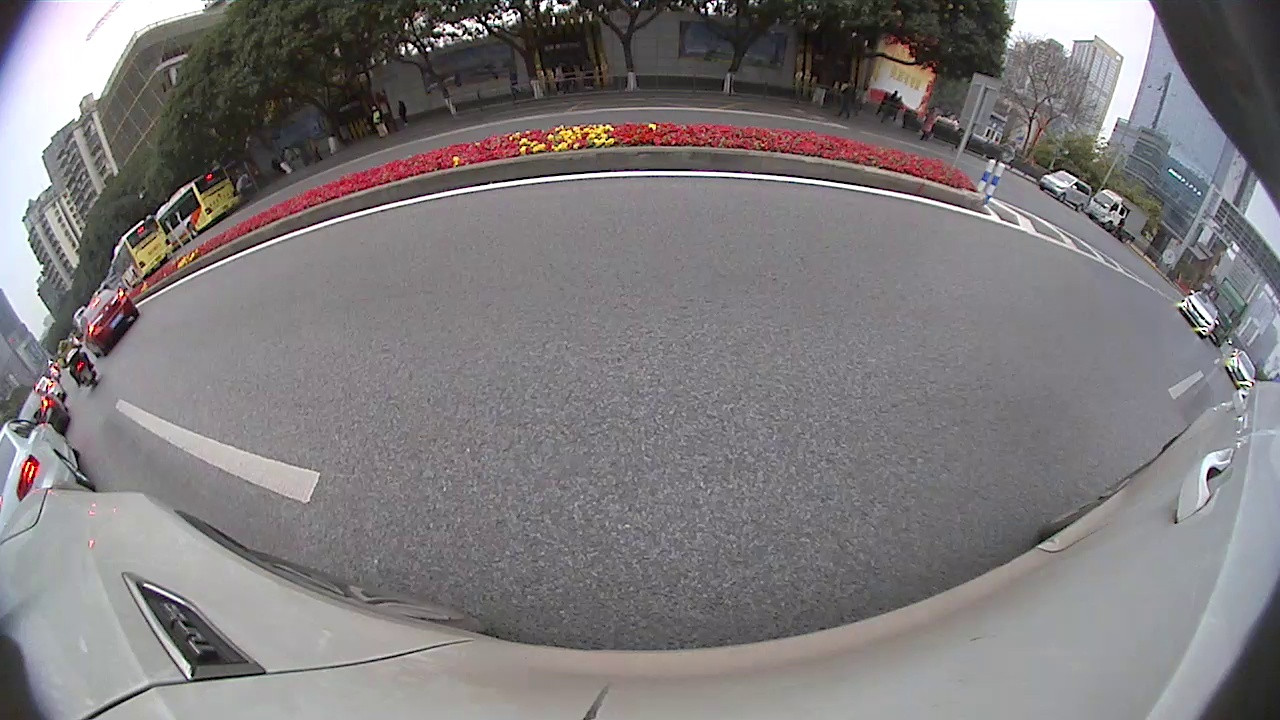bus: (155, 164, 241, 242), (104, 213, 172, 284)
car: (1, 417, 92, 501), (75, 289, 140, 352), (12, 382, 74, 433), (1039, 168, 1092, 212), (1178, 286, 1220, 341), (1225, 349, 1254, 398)
person: (844, 80, 853, 119), (925, 105, 935, 138)
rider: (56, 341, 95, 387)
truck: (1088, 187, 1150, 243), (1211, 273, 1247, 351)
